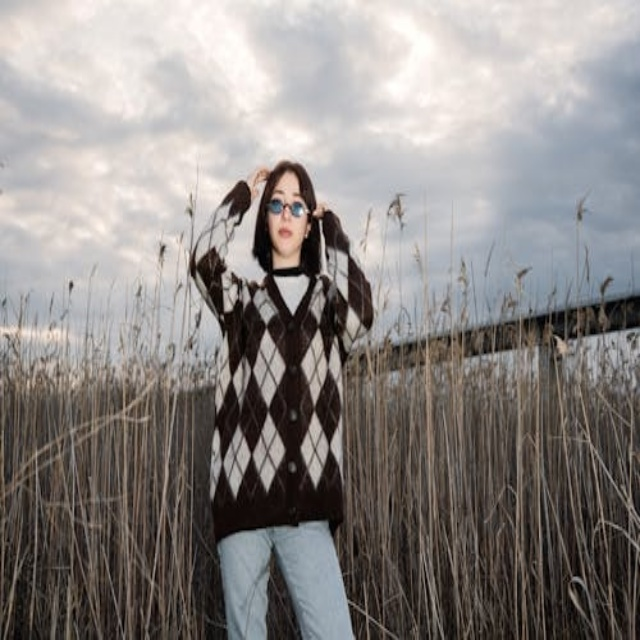Gafas: (266, 188, 307, 219)
Sin_guantes: (242, 152, 274, 198)
Sin_mascara: (271, 221, 300, 244)
